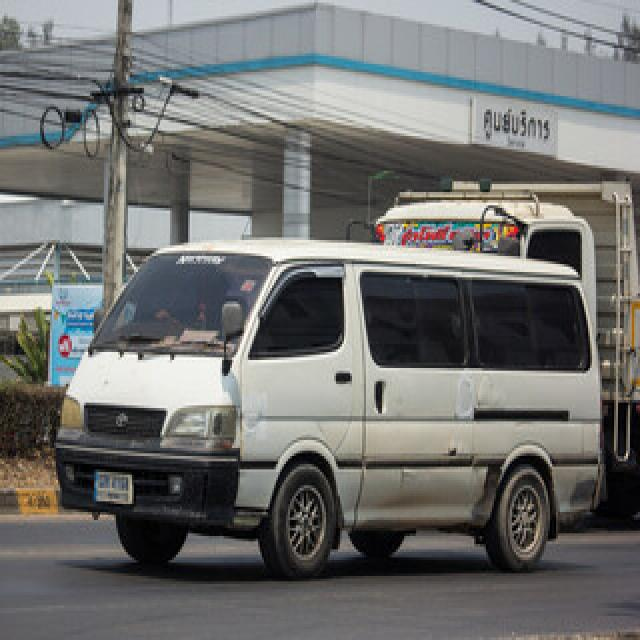van: (56, 240, 598, 576)
